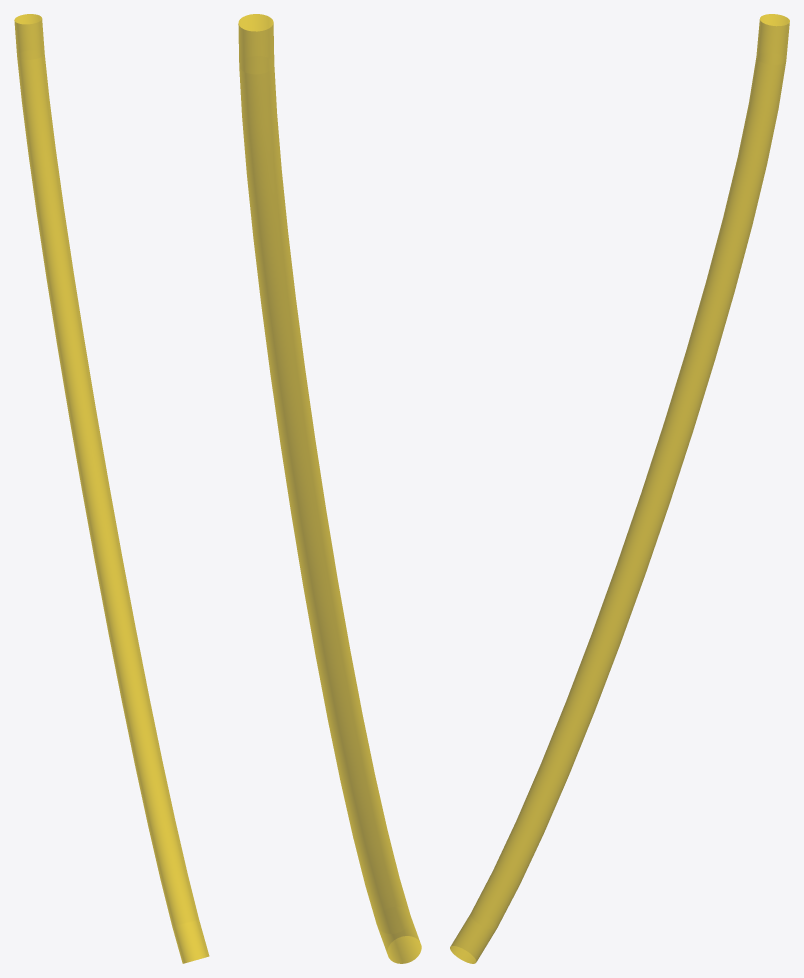
Rendered from Event_100608114_track_41.fbx.
3 renders of one model, left to right at view 1: azimuth 30°, elevation 25°; view 2: azimuth 150°, elevation 25°; view 3: azimuth 270°, elevation 25°, orthographic. The views are drawn at different scales.
Visible parts, largest first — view 1: Model; view 2: Model; view 3: Model.
Boxes of the visible parts, x1=… form: Model: x1=14, y1=14, x2=209, y2=963; Model: x1=238, y1=14, x2=421, y2=963; Model: x1=450, y1=14, x2=789, y2=963.
Bounding box in the file's own units: 0.0818 × 1.35 × 0.4469.
